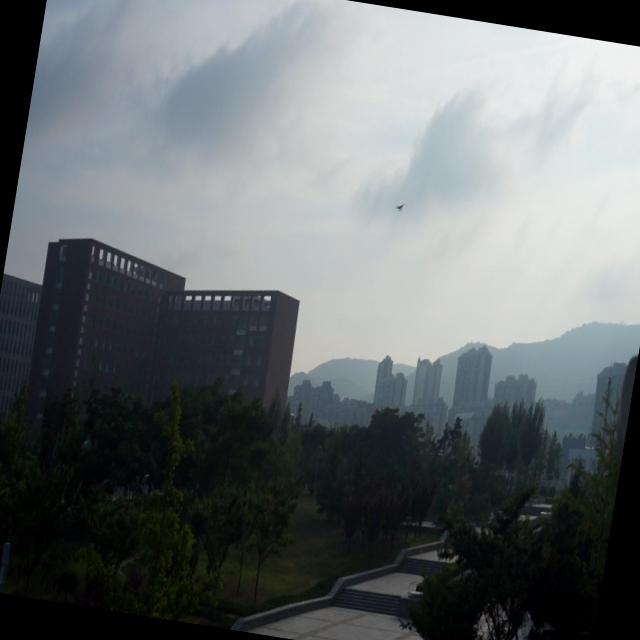drone: (392, 197, 406, 216)
